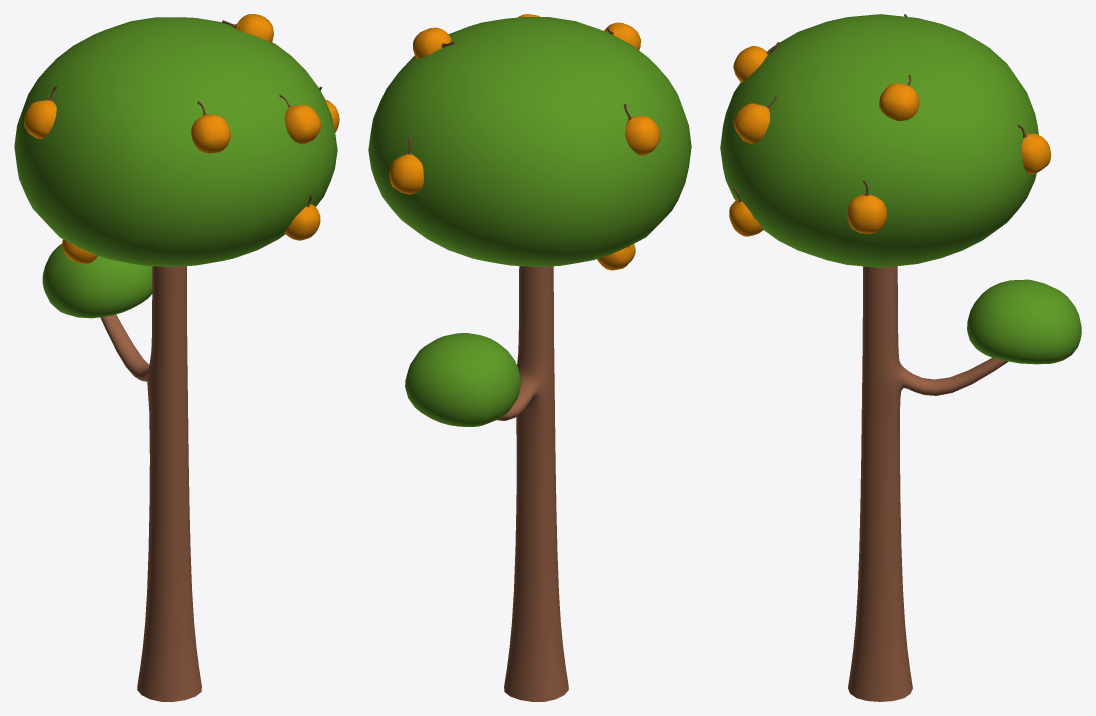
File: tree10.fbx
The picture shows the model from 3 angles, left to right: view 1: azimuth 30°, elevation 25°; view 2: azimuth 150°, elevation 25°; view 3: azimuth 270°, elevation 25°; orthographic projection.
Parts seen in each view (by area): view 1: Cube.103; view 2: Cube.103; view 3: Cube.103.
Boxes of the visible parts, x1,y1,x2,y2 form: Cube.103: (14, 14, 339, 701); Cube.103: (368, 14, 691, 701); Cube.103: (720, 14, 1081, 701).
Bounding box in the file's own units: 2.92 × 3.1 × 6.2.
